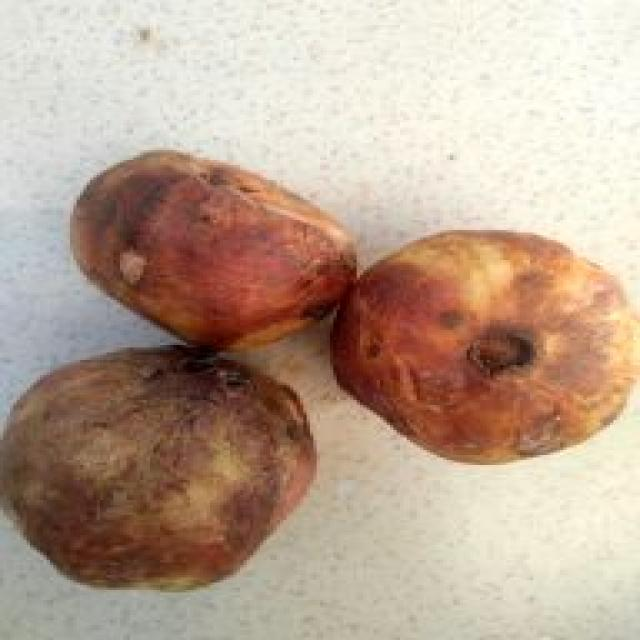Bad_Guava: (3, 349, 315, 588), (333, 231, 638, 463), (70, 151, 357, 348)
